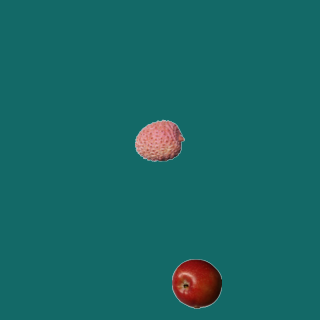Apple Braeburn: (171, 258, 221, 308)
Lychee: (134, 115, 184, 165)
